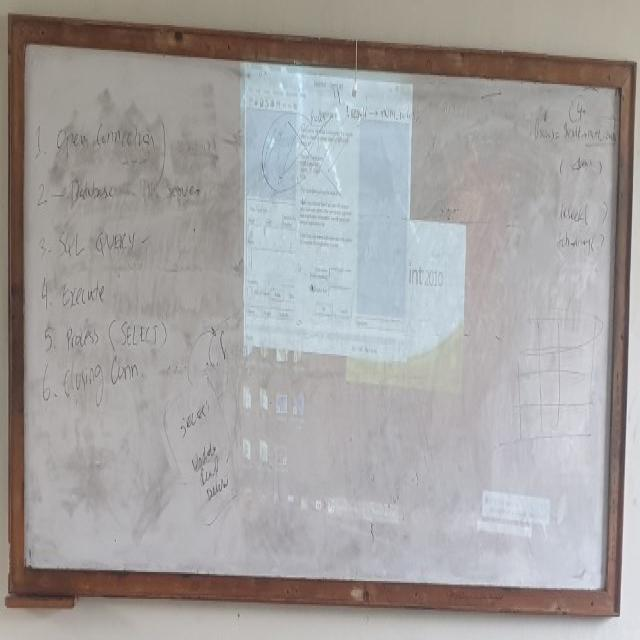Slide: (236, 44, 602, 555)
White-board: (12, 25, 630, 609)
